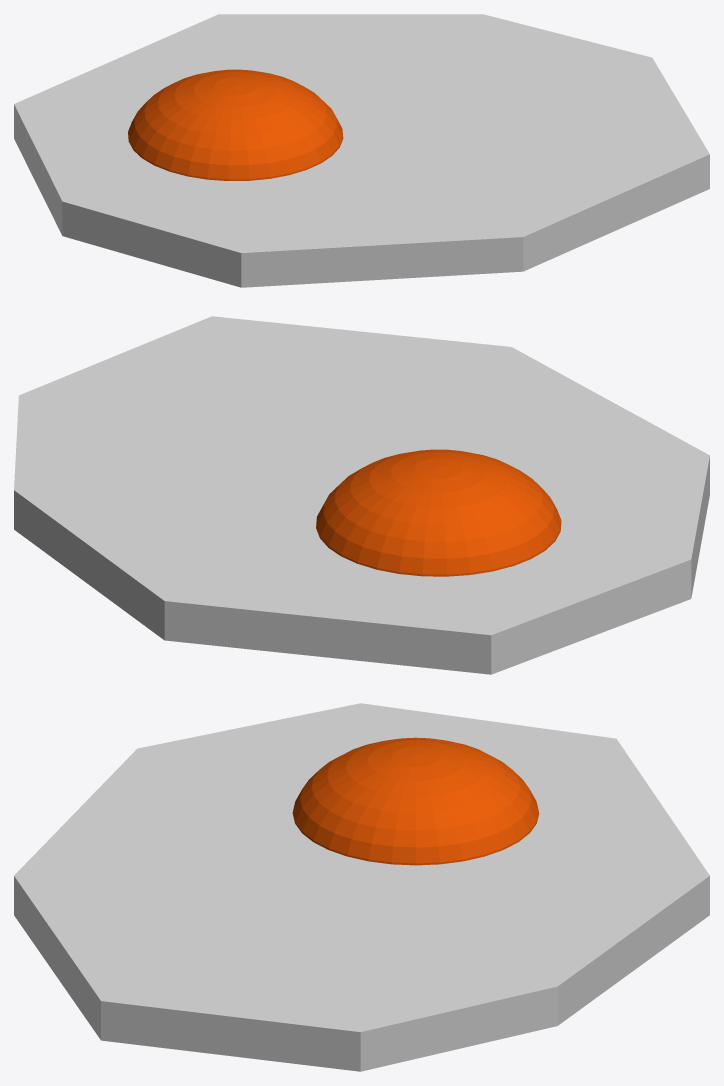
The model's file is huevofrito.glb.
The picture shows the model from 3 angles, top to bottom: view 1: azimuth 30°, elevation 25°; view 2: azimuth 150°, elevation 25°; view 3: azimuth 270°, elevation 25°; orthographic projection. The views are drawn at different scales.
Visible parts, largest first — view 1: Plane, Sphere; view 2: Plane, Sphere; view 3: Plane, Sphere.
Boxes of the visible parts, x1,y1,x2,y2 form: Plane: [14, 14, 709, 287]; Sphere: [128, 69, 343, 180]; Plane: [14, 316, 709, 674]; Sphere: [316, 449, 561, 576]; Plane: [14, 703, 709, 1071]; Sphere: [292, 737, 539, 865].
Bounding box in the file's own units: 1.91 × 0.2634 × 1.71.
